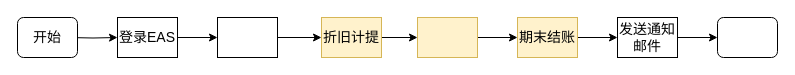
Image size: 795x75. Some labels were removed from this diagram. Here are the shapes that lost their labels. From the top down, the centre of each, then its label:
At (247,37): "切换组织".
At (447,37): "凭证过账".
At (747,37): "结束".
